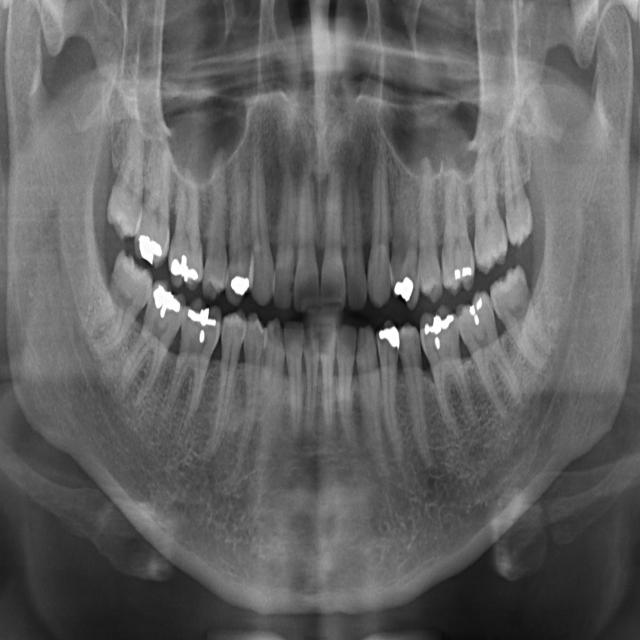AmalgamRestoration: (186, 301, 218, 346), (152, 278, 182, 320), (170, 252, 199, 290), (424, 314, 455, 349), (138, 227, 162, 267), (229, 273, 252, 305), (466, 292, 486, 326), (452, 261, 473, 284), (394, 278, 414, 302)
DentalCaries: (375, 341, 388, 366), (388, 348, 401, 369), (412, 338, 423, 362), (402, 336, 411, 364)
